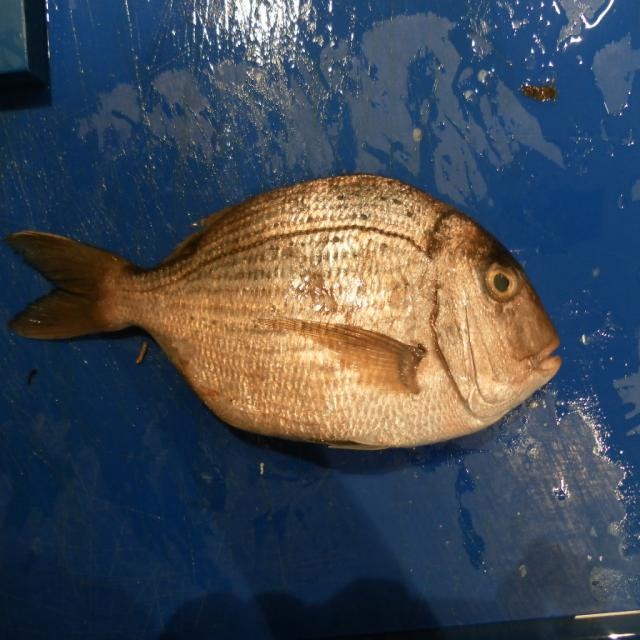Red-Sea-Bream-mercan-: (7, 174, 562, 452)
